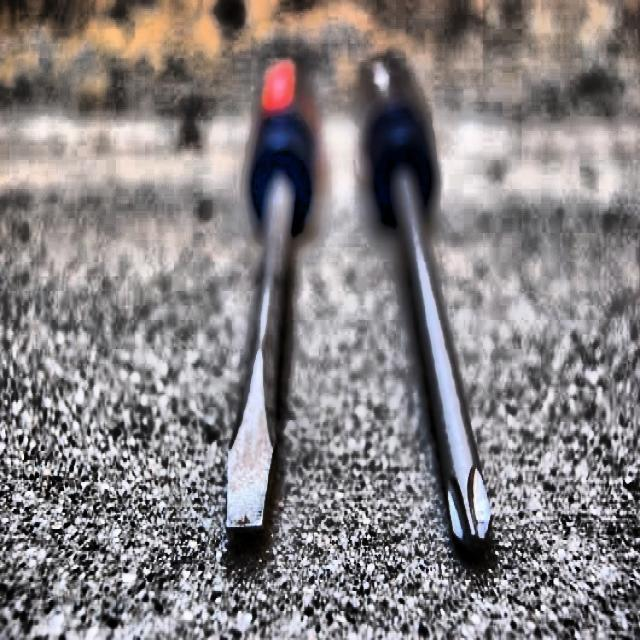screwdriver: (361, 52, 494, 558), (224, 58, 318, 530)
